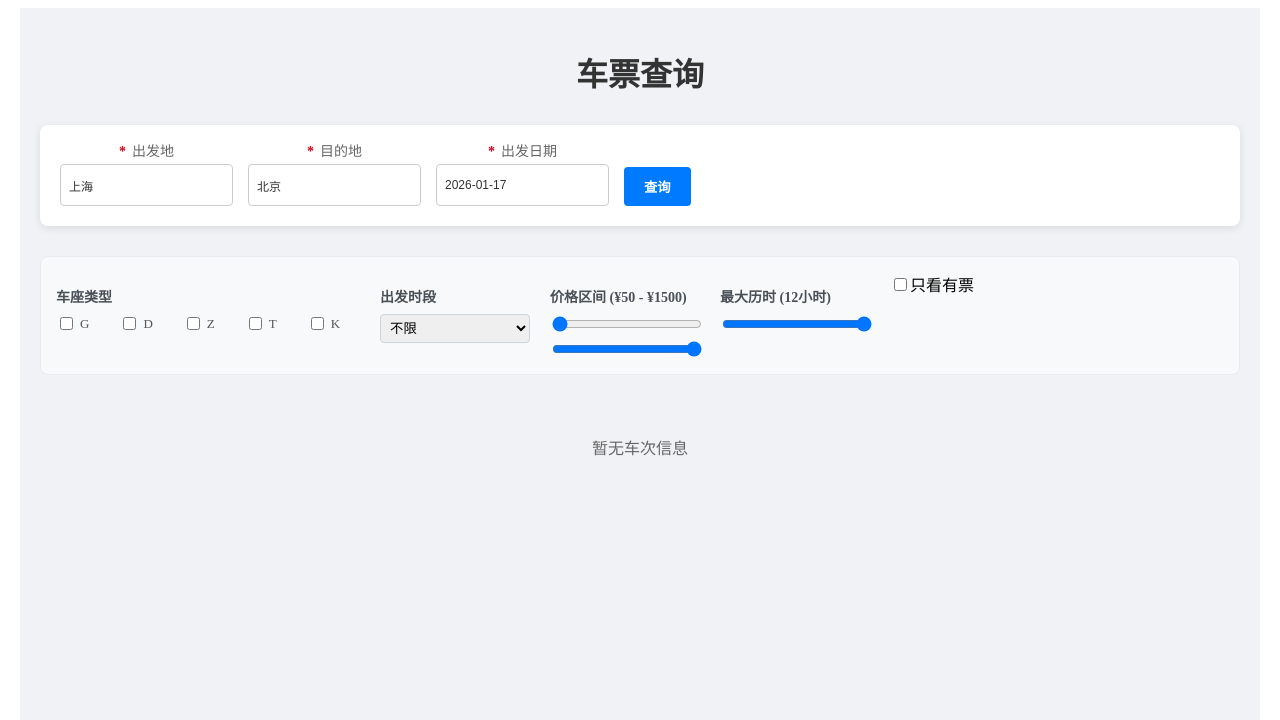
Test: Seat status displays 有/无/余票：X张 for all seat types
Click the button "查询" at (657, 187), box [624,167,691,206]
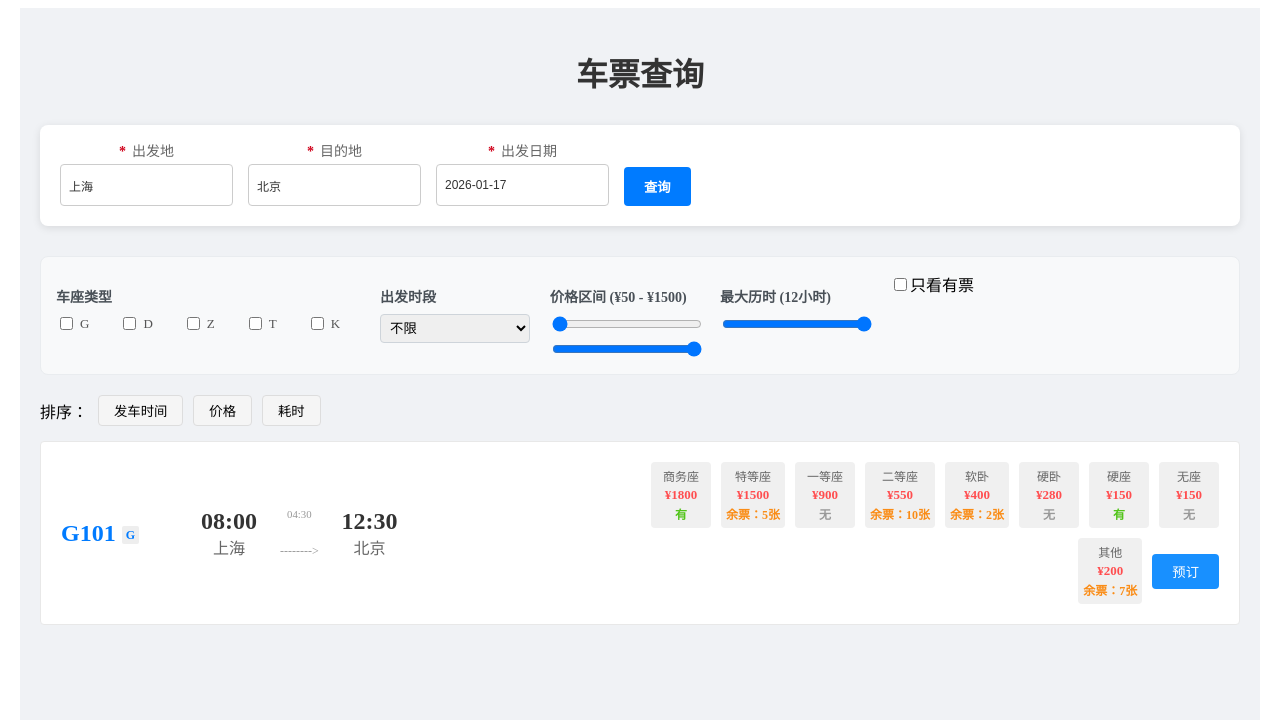
Now the text "G101" is shown, box [61,520,116,546]
Now the text "商务座" is shown, box [663,467,699,485]
Now the text "特等座" is shown, box [735,467,771,485]
